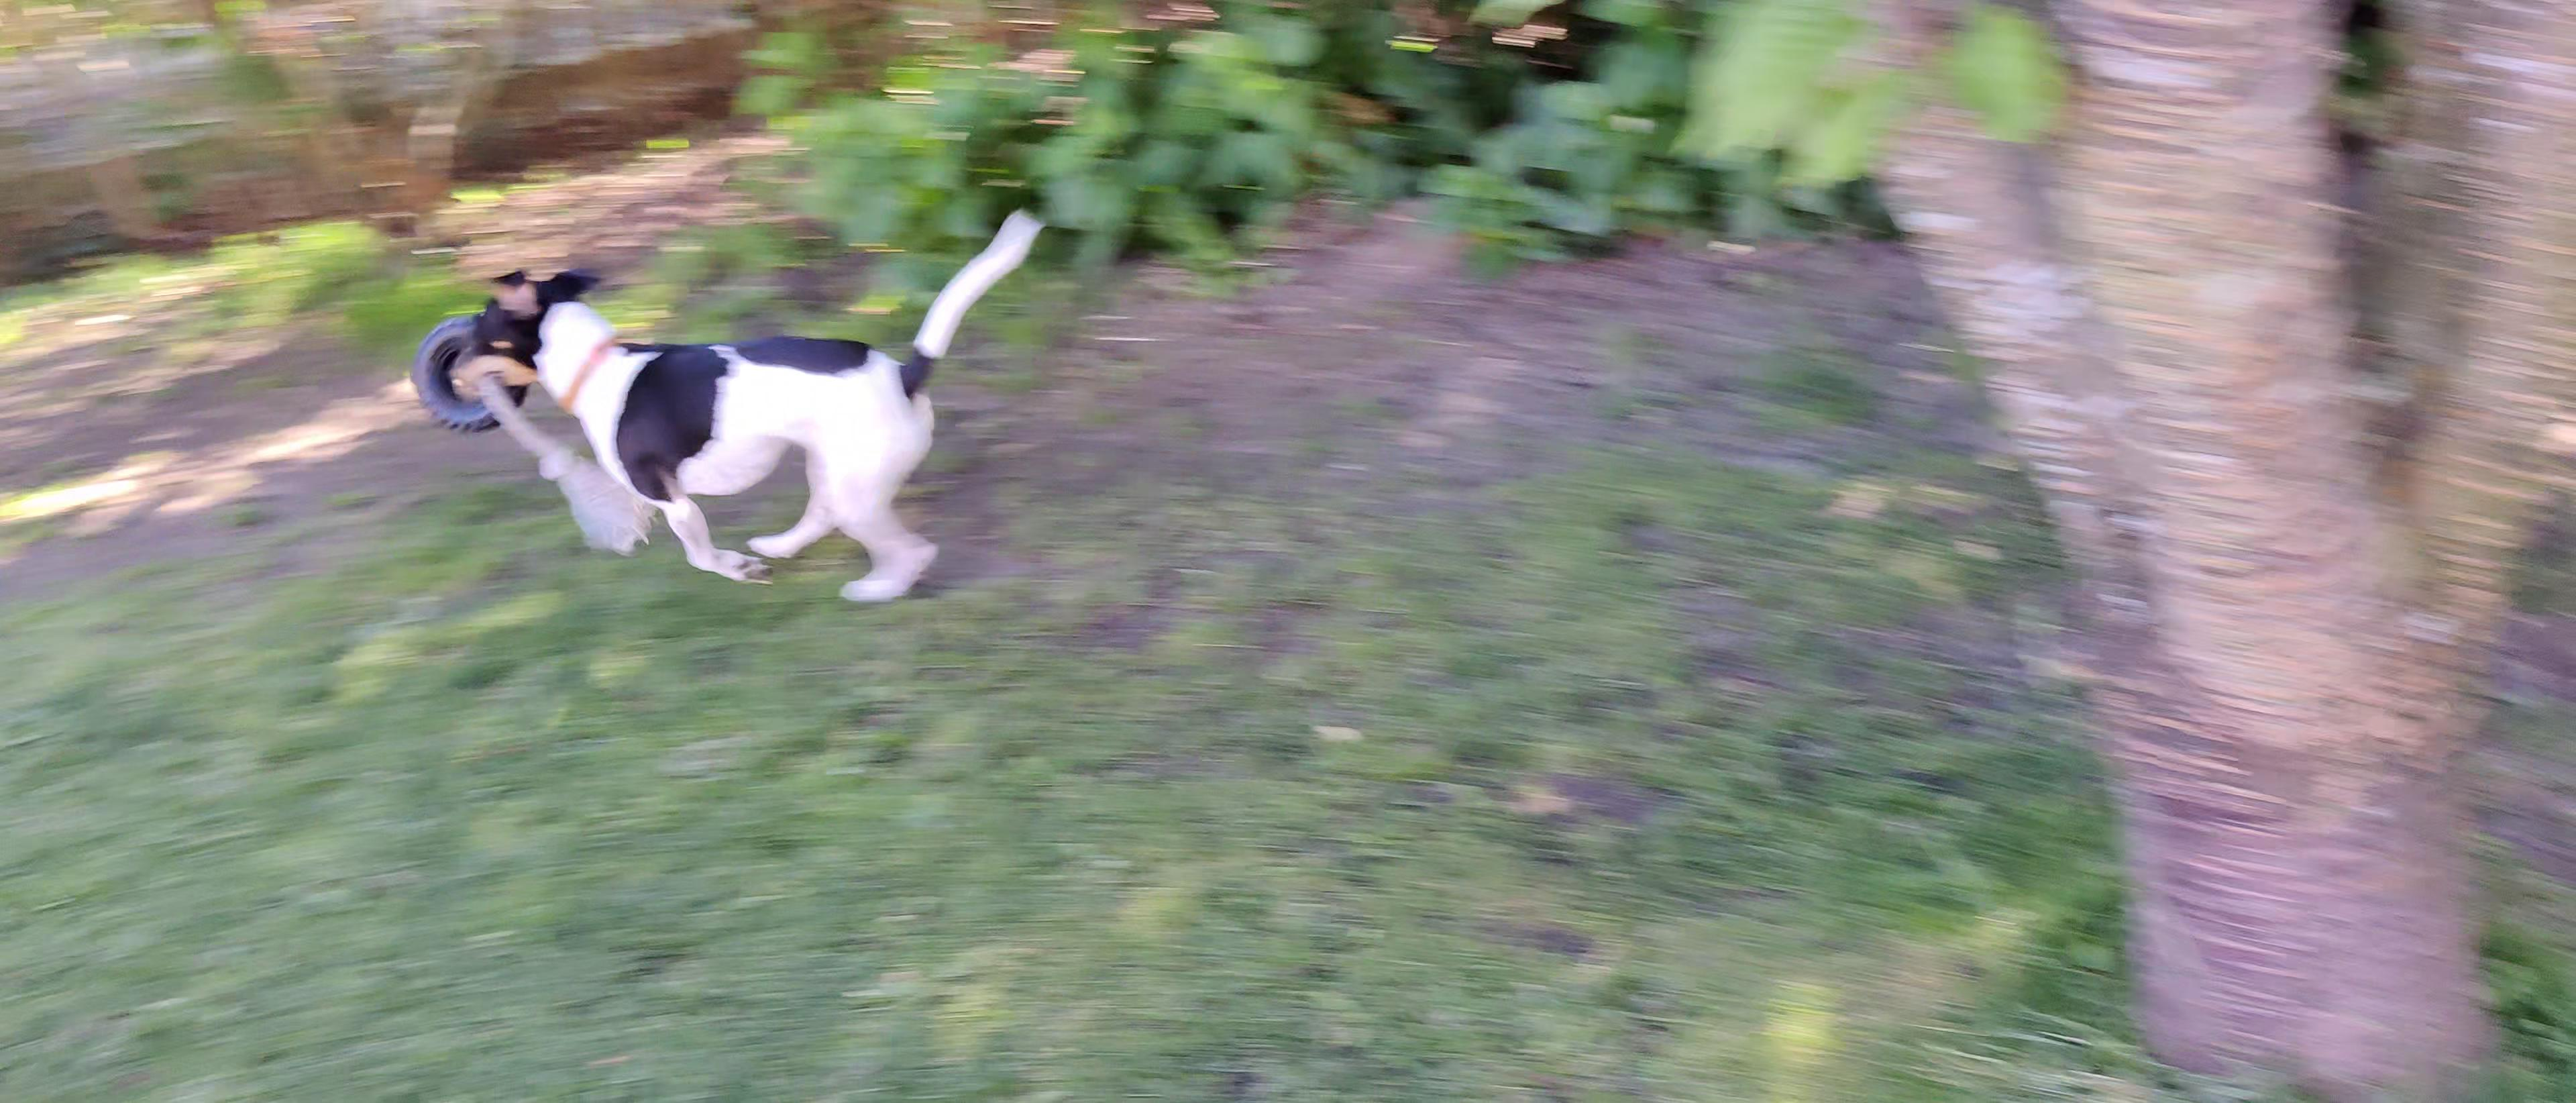Dog: (442, 196, 1051, 616)
